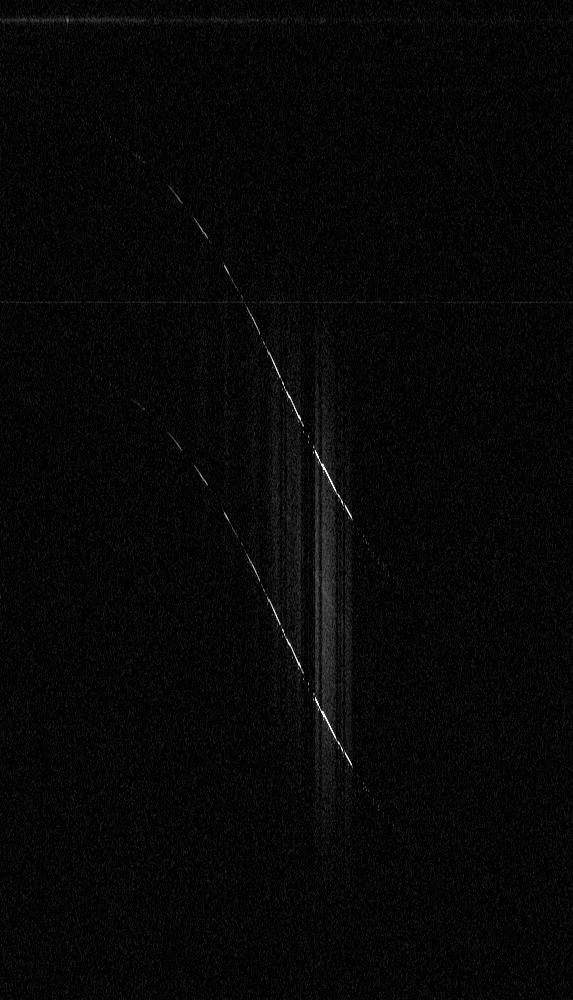signal: (0, 0, 572, 999)
